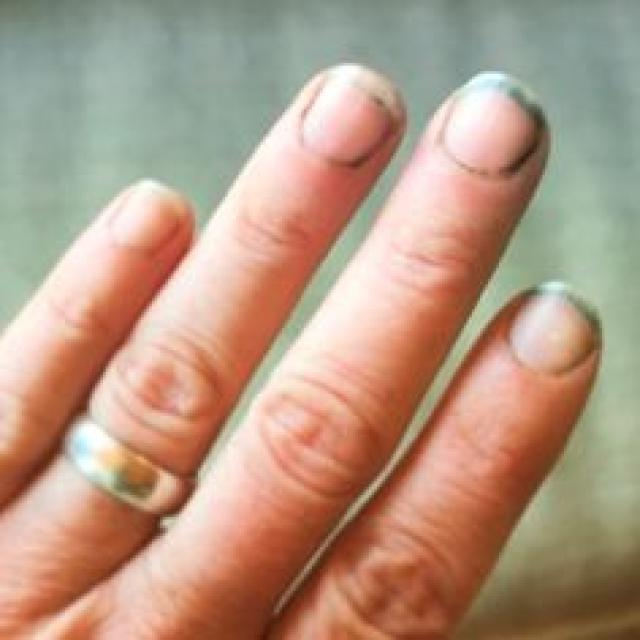Fingernail: (442, 73, 547, 180), (303, 65, 403, 166), (507, 284, 602, 376), (112, 179, 189, 255)
